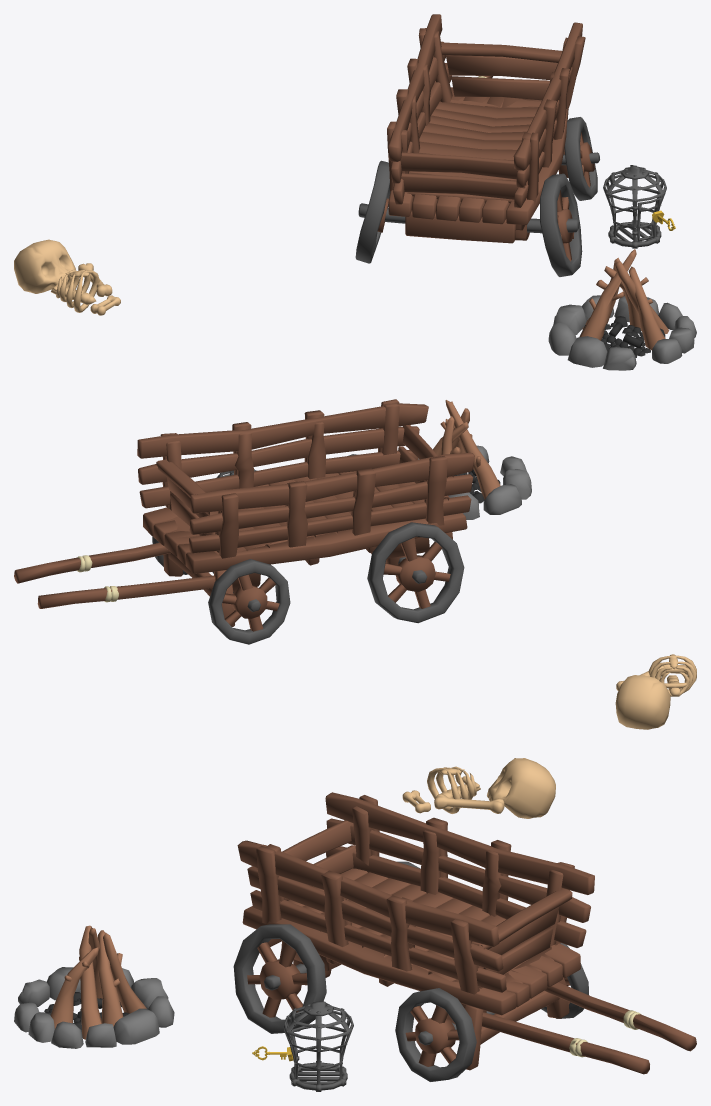
File: cage.glb
3 renders of one model, top to bottom at view 1: azimuth 30°, elevation 25°; view 2: azimuth 150°, elevation 25°; view 3: azimuth 270°, elevation 25°, orthographic. The views are drawn at different scales.
Parts seen in each view (by area): view 1: Car, Campfire, Corpse, Cage; view 2: Car, Campfire, Corpse; view 3: Car, Campfire, Corpse, Cage.
Part boxes in pixels (x1,y1,x2,y2): Car: (355,14,599,276); Campfire: (548,249,696,370); Corpse: (14,239,120,315); Cage: (603,165,666,248); Car: (14,399,474,644); Campfire: (418,400,531,519); Corpse: (615,654,696,729); Car: (233,792,696,1081); Campfire: (14,925,174,1048); Corpse: (402,758,555,818); Cage: (283,1001,353,1091).
Size of the model in its own units: 3.17 by 0.751 by 2.83.
